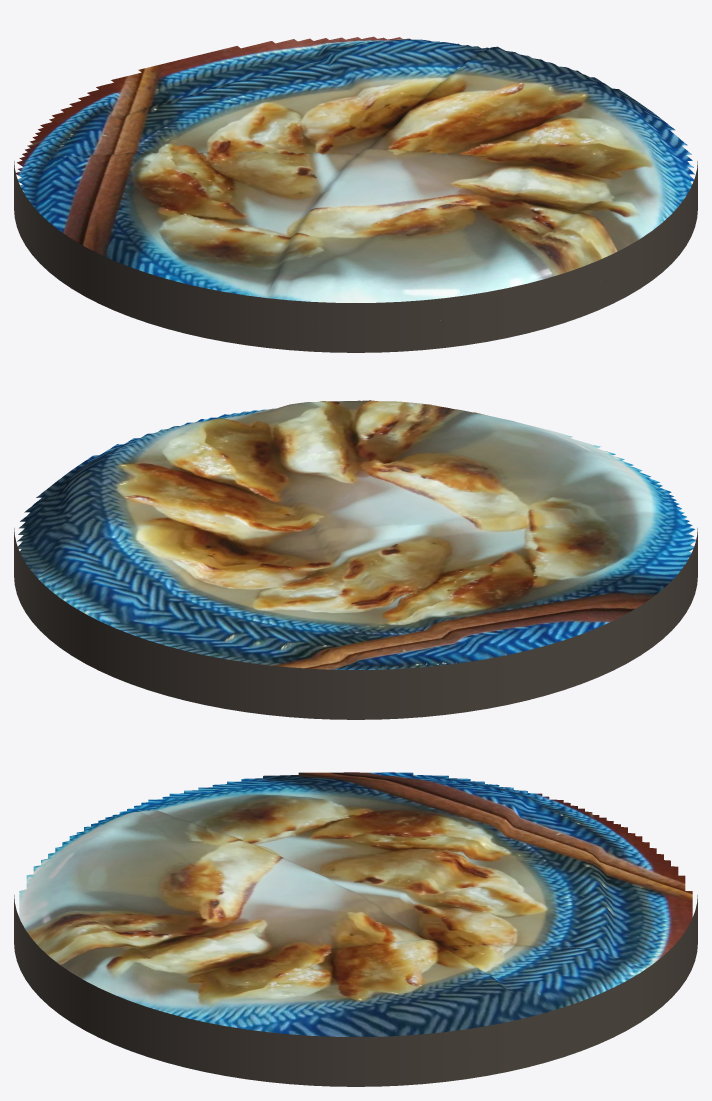
File: plato.glb
3 views of the same model, one above another, from view 1: azimuth 30°, elevation 25°; view 2: azimuth 150°, elevation 25°; view 3: azimuth 270°, elevation 25° (orthographic).
Size of the model in its own units: 0.2985 by 0.0273 by 0.2985.
Materials: 2 (1 with a texture image).
